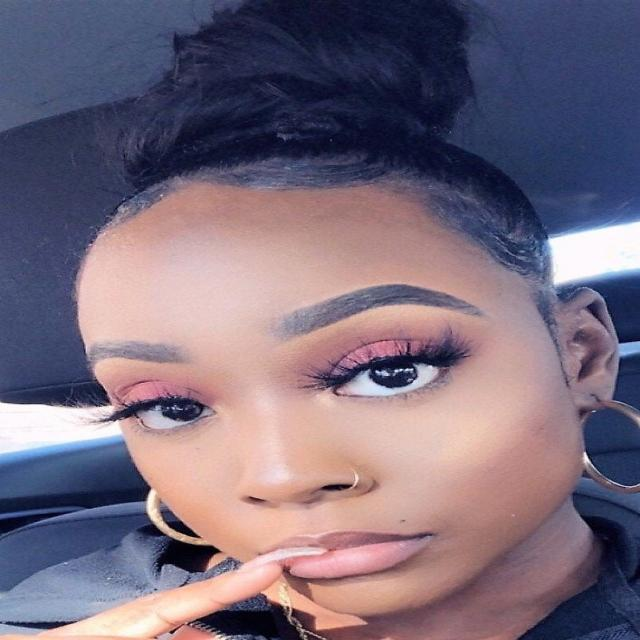Earring: (572, 390, 640, 503), (140, 478, 214, 554)
